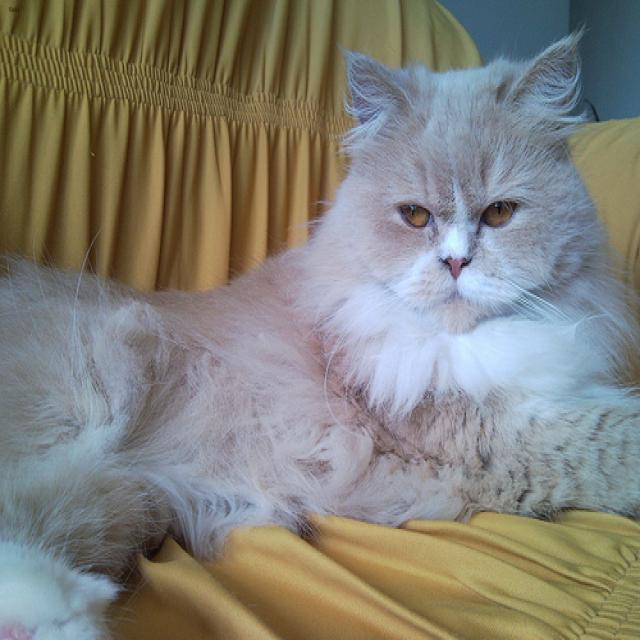Persian: (347, 33, 580, 331)
